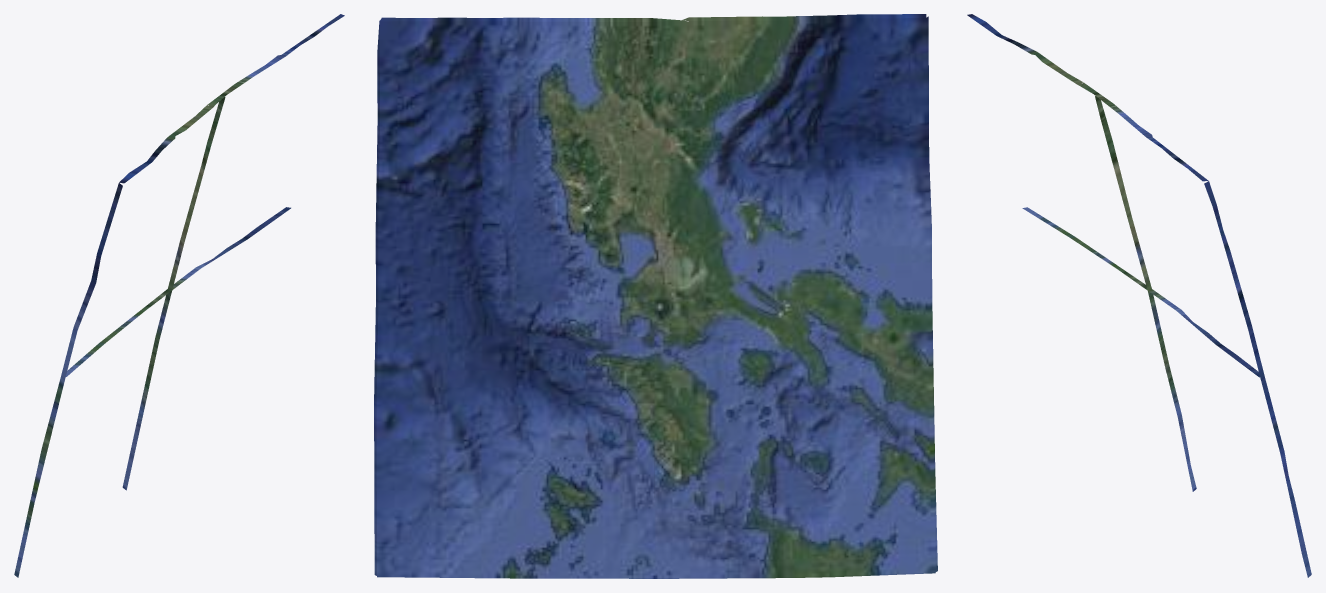
The picture shows the model from 3 angles, left to right: view 1: azimuth 30°, elevation 25°; view 2: azimuth 150°, elevation 25°; view 3: azimuth 270°, elevation 25°; orthographic projection. The views are drawn at different scales.
Bounding box in the file's own units: 606864 × 613991 × 452448.
1 material, 1 textured.
